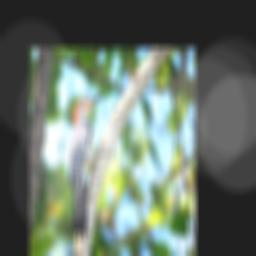Woodpecker: (68, 94, 108, 242)
